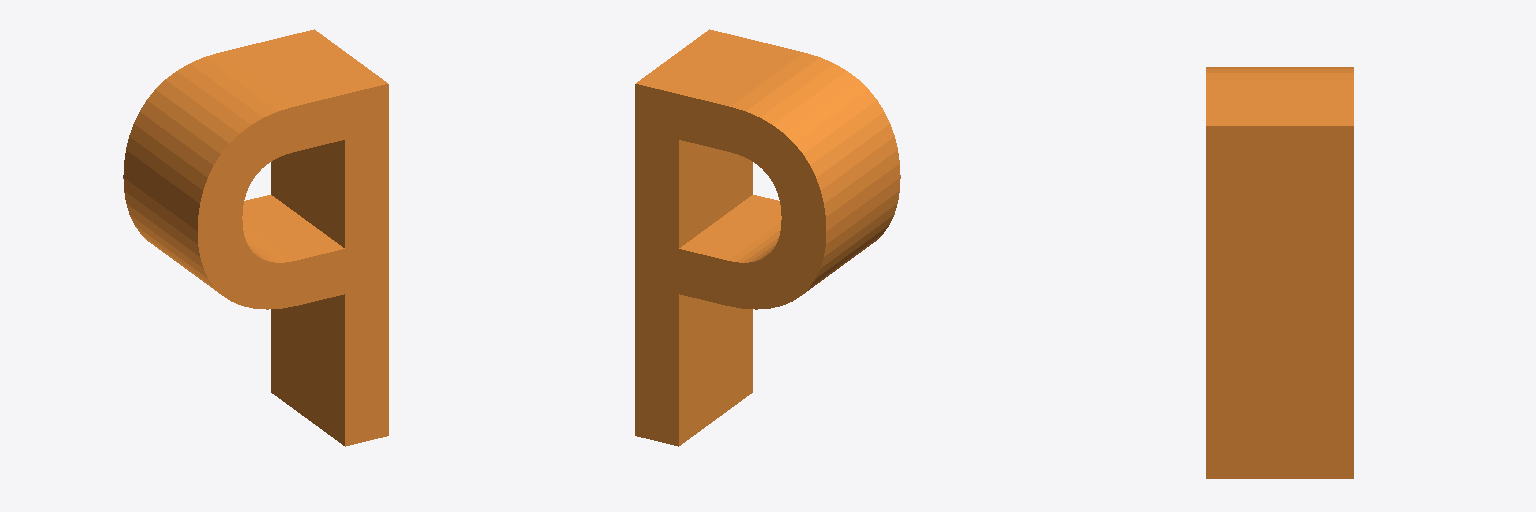
The picture shows the model from 3 angles: view 1: azimuth 30°, elevation 25°; view 2: azimuth 150°, elevation 25°; view 3: azimuth 270°, elevation 25°; orthographic projection.
Visible parts, largest first — view 1: テキスト; view 2: テキスト; view 3: テキスト.
Boxes of the visible parts, <box> form: テキスト: <box>123,29,388,446</box>; テキスト: <box>635,29,900,446</box>; テキスト: <box>1206,67,1353,478</box>.
Bounding box in the file's own units: 0.387 × 0.682 × 0.26.
1 materials, 1 textured.